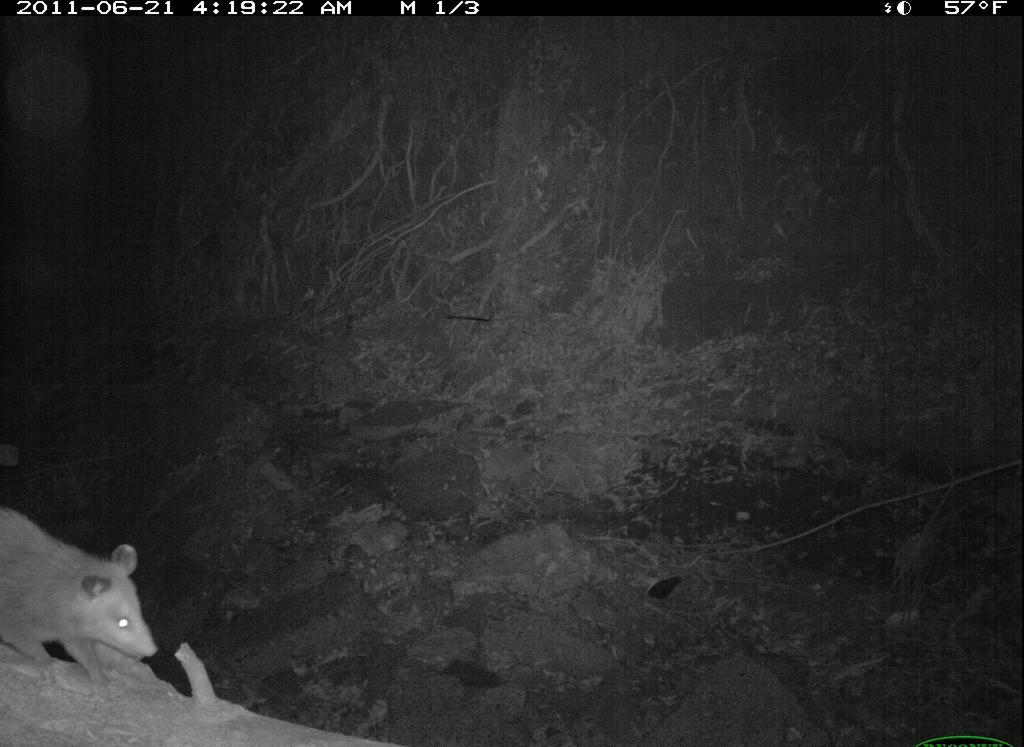opossum: (3, 502, 158, 694)
